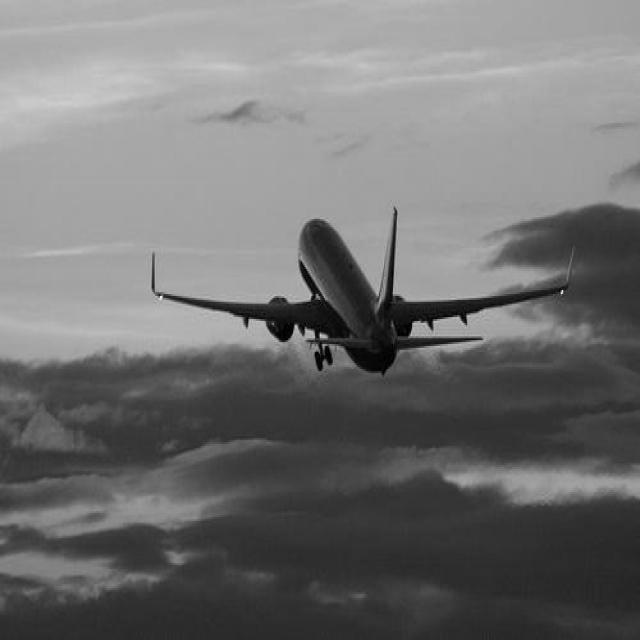aeroplane: (150, 206, 574, 377)
